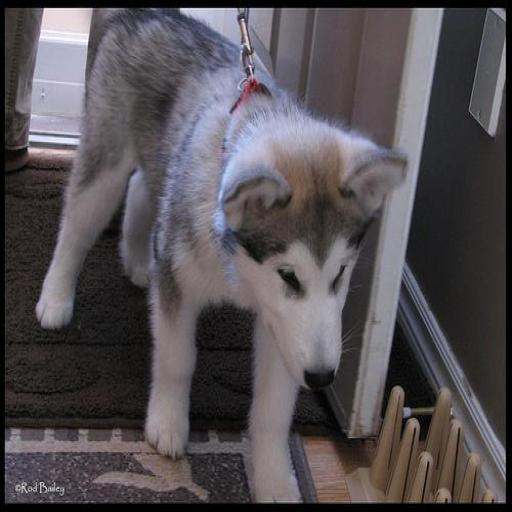dog_face: (234, 134, 393, 396)
